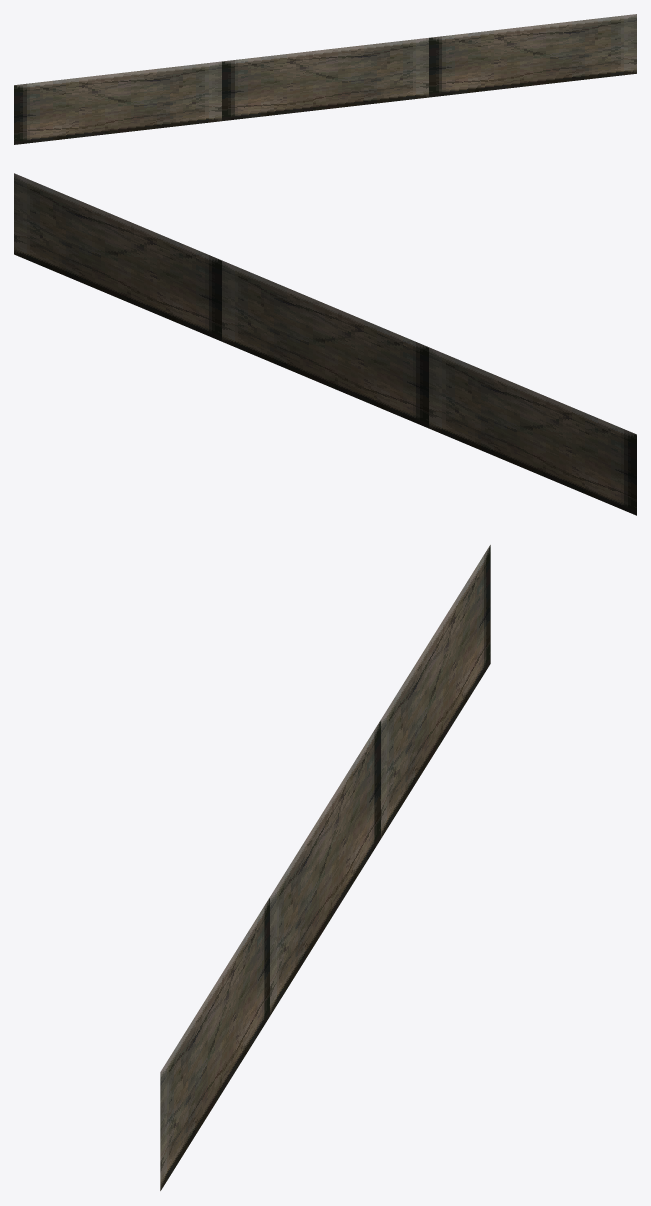
Rendered from CH09_SMAUG_PLAYSURFACE_LAIR121.fbx.
The picture shows the model from 3 angles, top to bottom: view 1: azimuth 30°, elevation 25°; view 2: azimuth 150°, elevation 25°; view 3: azimuth 270°, elevation 25°; orthographic projection. The views are drawn at different scales.
Visible parts, largest first — view 1: CH09_SMAUG_PLAYSURFACE_LAIR121; view 2: CH09_SMAUG_PLAYSURFACE_LAIR121; view 3: CH09_SMAUG_PLAYSURFACE_LAIR121.
Boxes of the visible parts, left/top/right/bottom form: CH09_SMAUG_PLAYSURFACE_LAIR121: left=14, top=14, right=636, bottom=144; CH09_SMAUG_PLAYSURFACE_LAIR121: left=14, top=173, right=636, bottom=515; CH09_SMAUG_PLAYSURFACE_LAIR121: left=160, top=545, right=490, bottom=1190.
Bounding box in the file's own units: 57771 × 6127 × 15287.
Materials: 1 (1 with a texture image).
